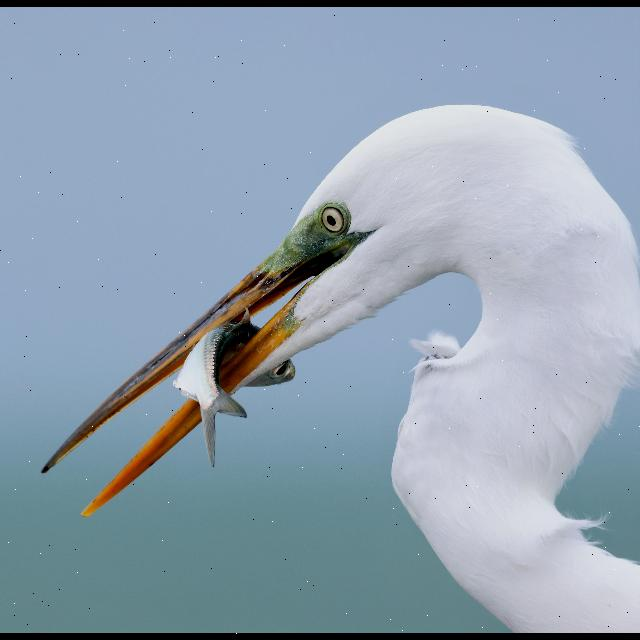egret: (32, 94, 640, 634)
